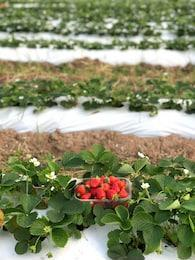Fresa: (104, 188, 120, 201), (74, 183, 87, 197)
